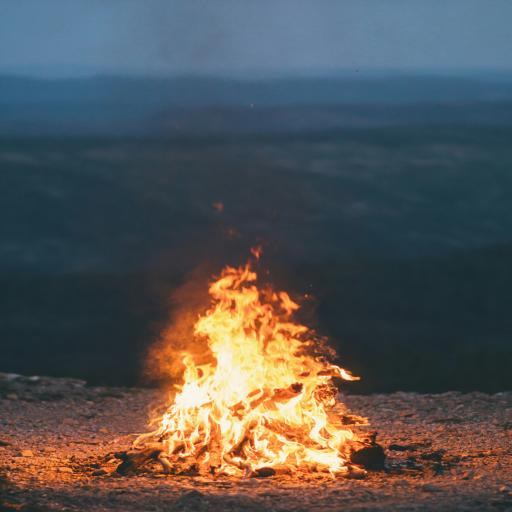campfire: (0, 137, 512, 502)
